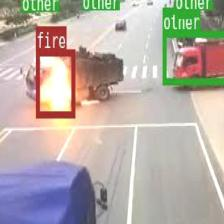fire: (36, 48, 74, 116)
